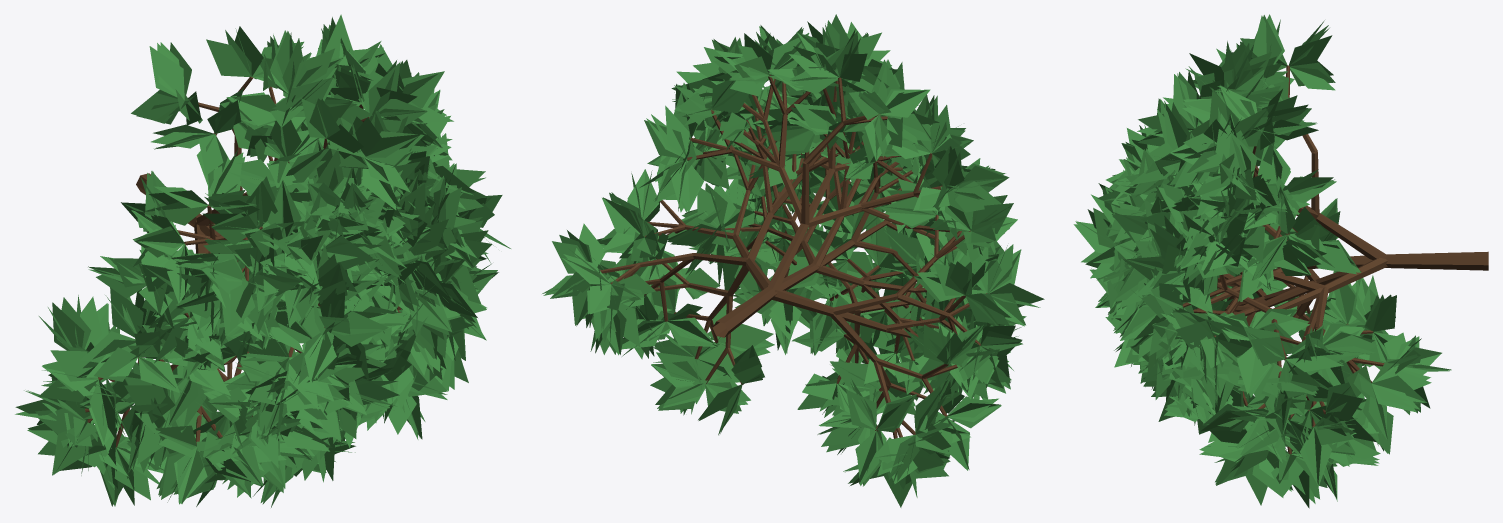
The model's file is bushy-fern_seed3.obj.
3 views of the same model, side by side, from view 1: azimuth 30°, elevation 25°; view 2: azimuth 150°, elevation 25°; view 3: azimuth 270°, elevation 25° (orthographic). The views are drawn at different scales.
Bounding box in the file's own units: 2.69 × 2.62 × 2.2.
